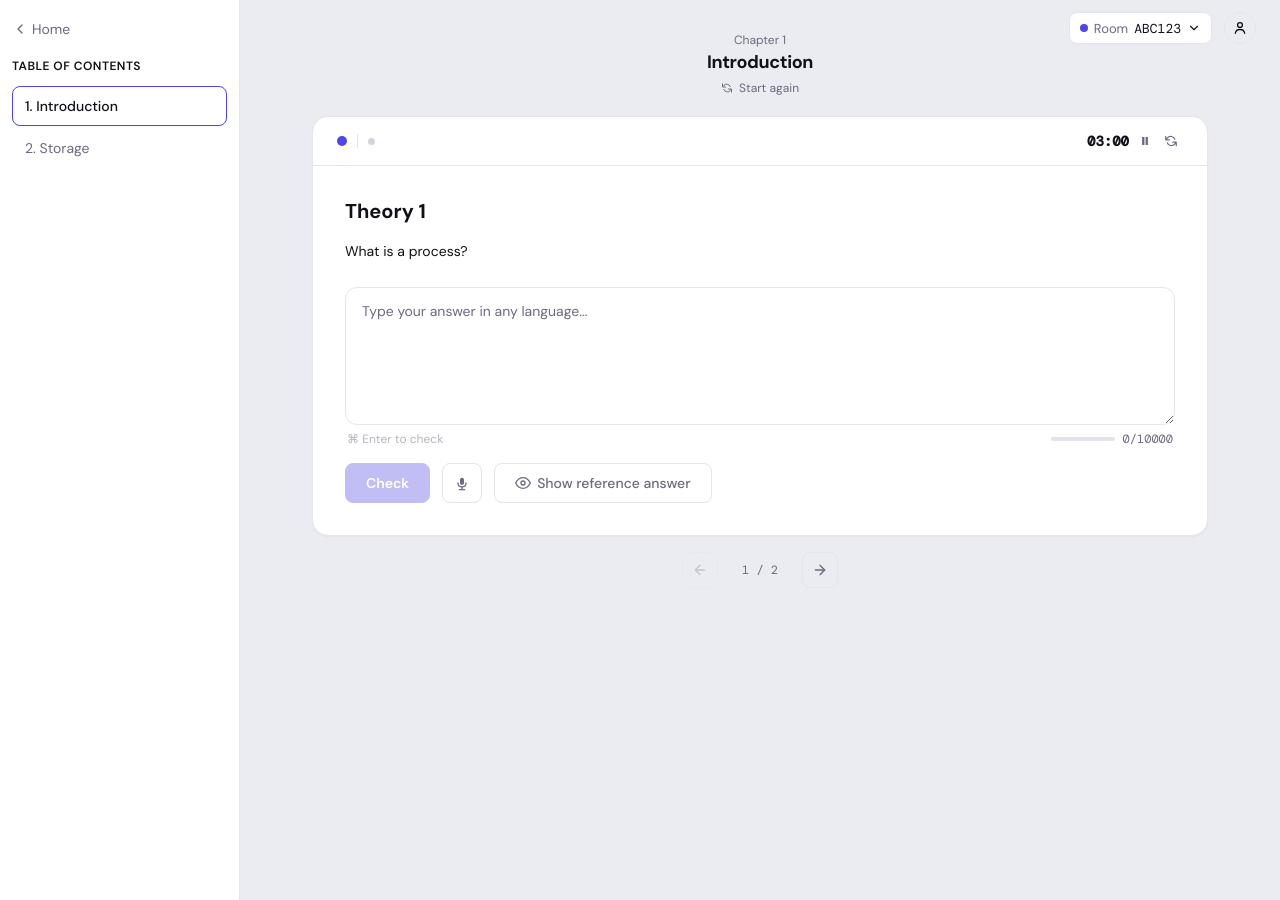
Test: App routing › switches chapters inside a room over the same room connection
expect the text "What is a process?" is shown: met, box [345,242,468,260]
Step 1. Click the button "2. Storage" → {"x": 120, "y": 148}, box [12,128,227,168]
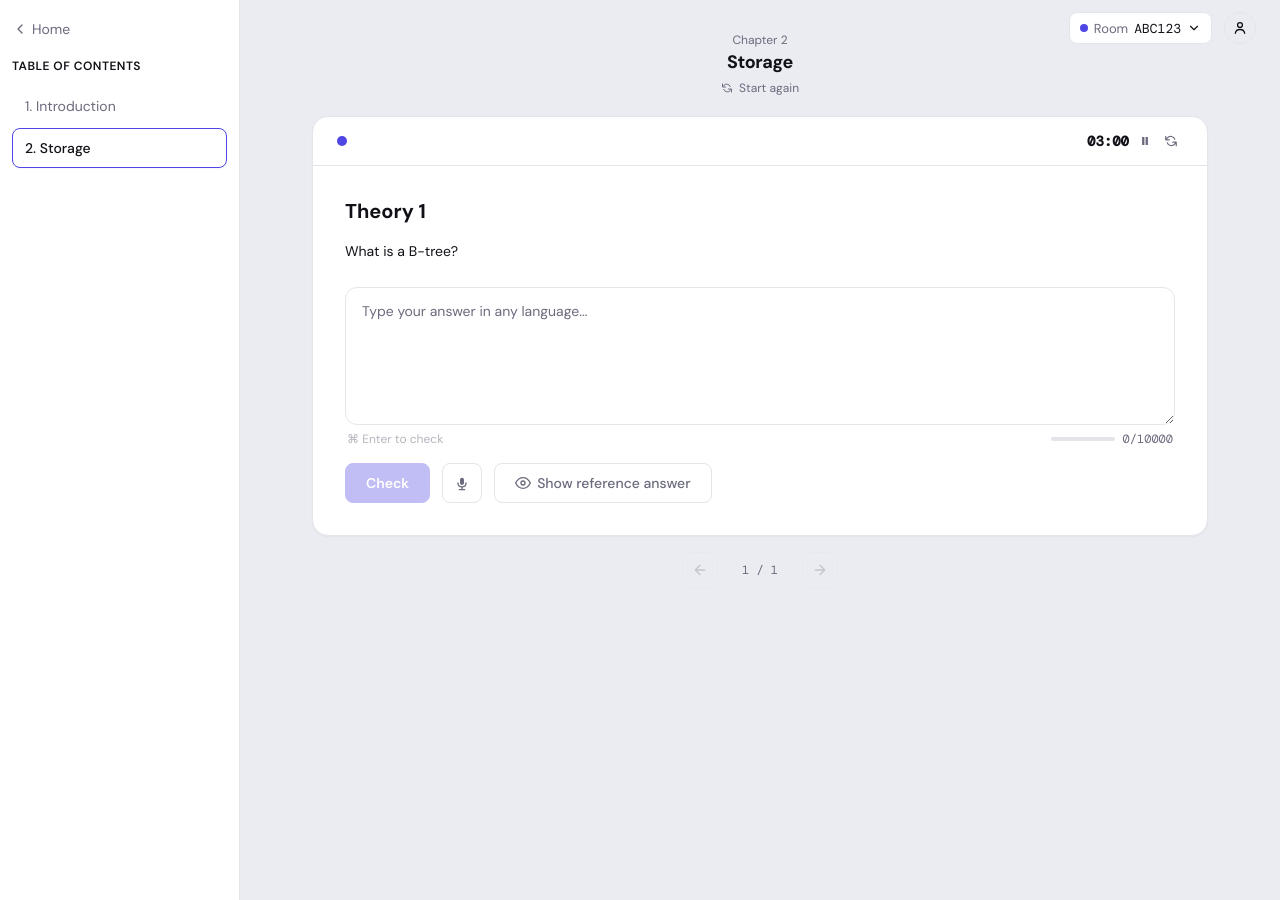
expect the text box with placeholder "Type your answer in any language..." is enabled: met, box [345,287,1175,425]
expect the text "What is a B-tree?" is shown: met, box [345,242,458,260]
